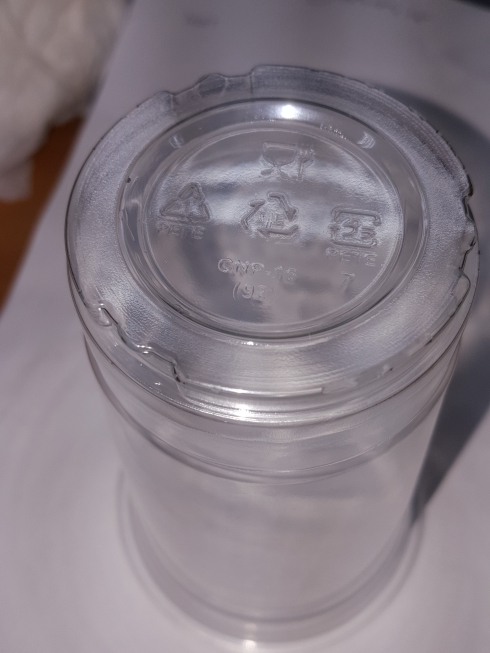recycle: (156, 165, 218, 246)
